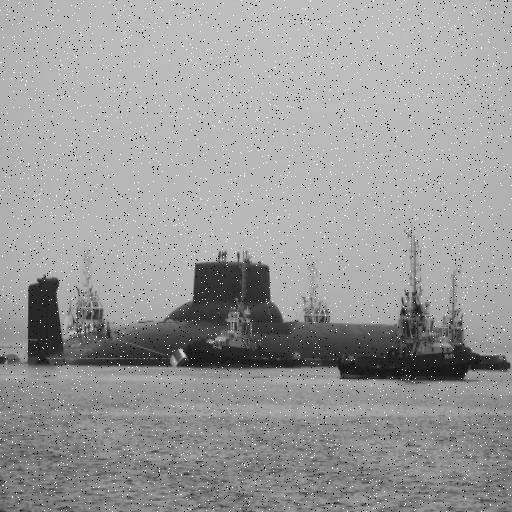submarine: (32, 263, 401, 365)
